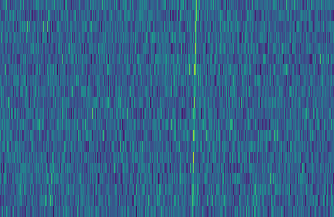signal: (187, 0, 201, 217)
